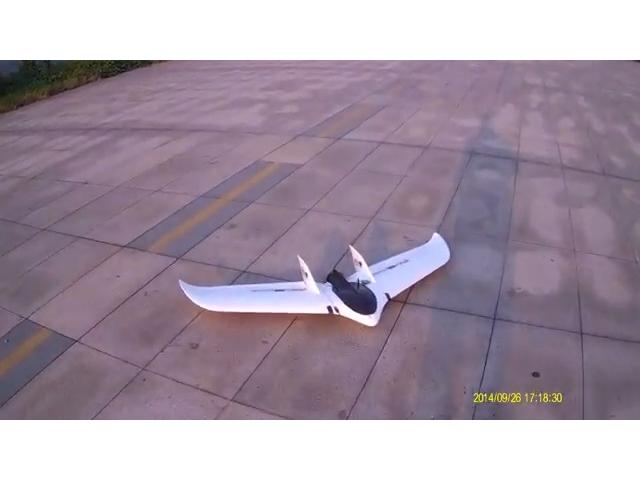Anti-Drone: (167, 227, 457, 359)
